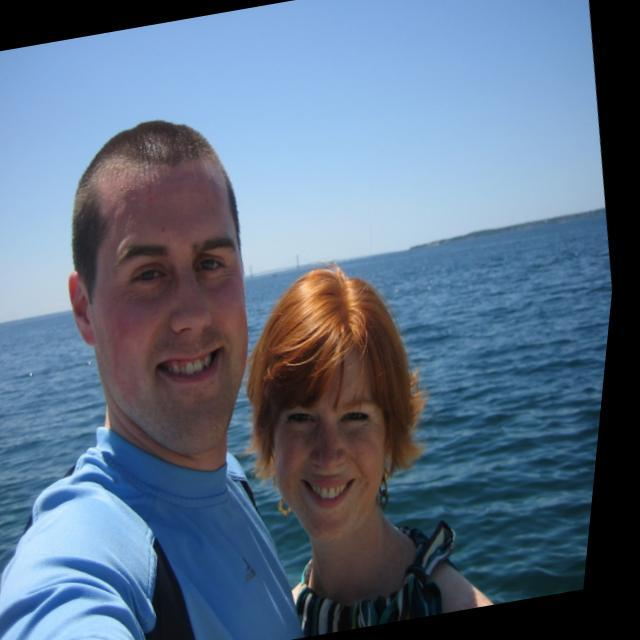Nonhelmet: (66, 116, 252, 454), (244, 256, 442, 550)
